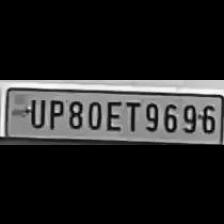0: (84, 96, 102, 130)
6: (160, 98, 180, 132), (198, 99, 216, 133)
8: (65, 95, 84, 129)
9: (140, 98, 160, 132), (179, 100, 197, 132)
E: (103, 97, 123, 131)
P: (44, 96, 64, 128)
T: (123, 97, 141, 131)
U: (23, 95, 44, 127)
